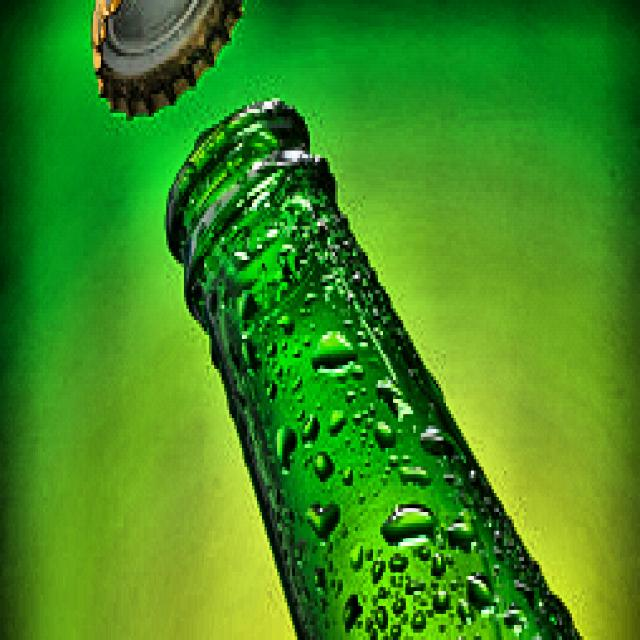glass: (162, 98, 585, 640)
